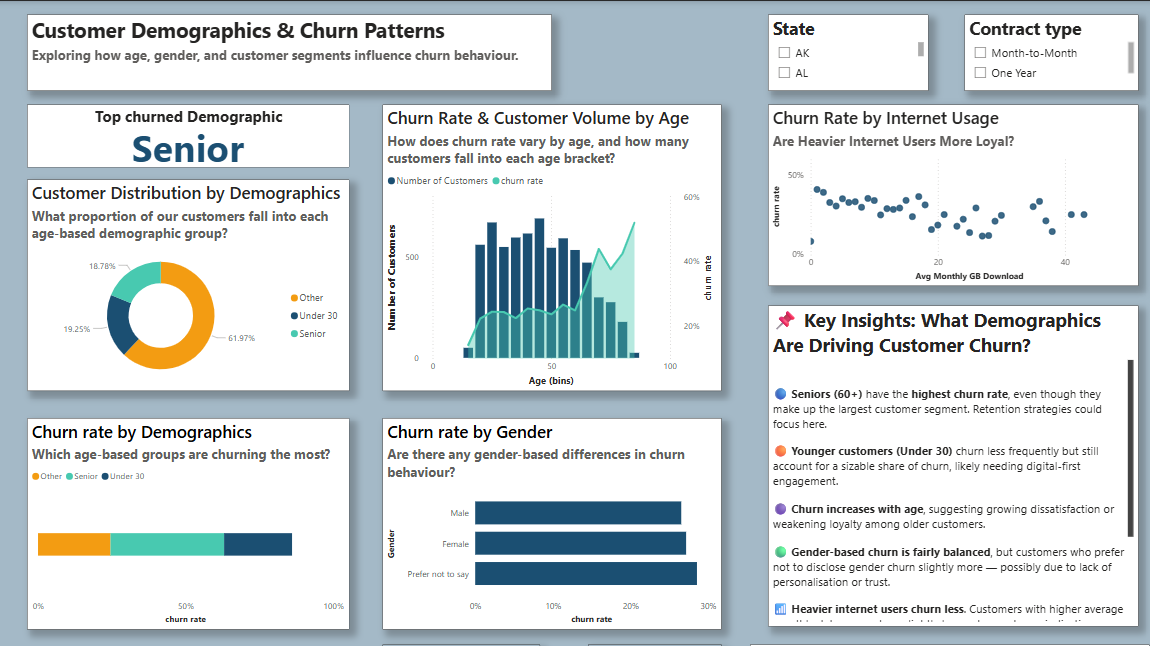

The dashboard page shown, as its layout file describes it:
{"tool":"powerbi","page":{"name":"Customer Demographics & Churn Patterns","canvas":[1640,960],"ordinal":3},"visuals":[{"type":"donutChart","title":"Customer Distribution by Demographics","fields":{"Category":["Databel - Data.Demographics"],"Y":["Databel - Data.Number of Customers"]},"box":[42.6,253.7,458.3,300.6],"z":0},{"type":"barChart","title":"Churn rate by Gender","fields":{"Y":["Databel - Data.churn rate"],"Category":["Databel - Data.Gender"]},"box":[547.9,592.6,481.8,300.6],"z":1000},{"type":"lineStackedColumnComboChart","title":"Churn Rate & Customer Volume by Age","fields":{"Category":["Databel - Data.Age (bins)"],"Y":["Databel - Data.Number of Customers"],"Y2":["Databel - Data.churn rate"]},"box":[547.9,147.1,481.8,407.2],"z":2000},{"type":"barChart","title":"Churn rate by Demographics","fields":{"Series":["Databel - Data.Demographics"],"Y":["Databel - Data.churn rate"]},"box":[42.6,592.6,458.3,300.6],"z":3000},{"type":"slicer","title":"State","fields":{"Values":["Databel - Data.State"]},"box":[1095.7,19.2,228.1,108.7],"z":4000},{"type":"slicer","title":"Contract type","fields":{"Values":["Databel - Data.Contract Type"]},"box":[1375,19.2,247.3,108.7],"z":5000},{"type":"textbox","title":"Customer Demographics & Churn Patterns","box":[42.6,19.2,746.1,108.7],"z":6000},{"type":"textbox","title":"📌 Key Insights: What Demographics Are Driving Customer Churn?","box":[1095.7,432.7,526.5,456.2],"z":7000},{"type":"textbox","title":"Power BI Dashboard | Analysing Customer Churn ","box":[1069.9,914.5,569.5,45.5],"z":8000},{"type":"scatterChart","title":"Churn Rate by Internet Usage","fields":{"X":["Databel - Data.Avg Monthly GB Download"],"Y":["Databel - Data.churn rate"]},"box":[1095.7,147.1,526.5,257.9],"z":9000},{"type":"card","title":"Top churned Demographic","fields":{"Values":["Databel - Data.Top Churned Demographic"]},"box":[42.6,147.1,458.3,89.5],"z":10000},{"type":"shape","title":"Next Page","box":[839.9,914.5,189.7,44.8],"z":10001},{"type":"shape","title":"Previous Page","box":[547.9,914.5,223.8,44.8],"z":10002}]}

Visuals, with their boxes on the page's 1640x960 design canvas (x1, y1, x2, y2). These are canvas units, not pixel positions in the 1150x646 screenshot, which may show the page scaled, cropped or inside an application window:
"Customer Distribution by Demographics" donutChart: {"left": 43, "top": 254, "right": 501, "bottom": 554}
"Churn rate by Gender" barChart: {"left": 548, "top": 593, "right": 1030, "bottom": 893}
"Churn Rate & Customer Volume by Age" lineStackedColumnComboChart: {"left": 548, "top": 147, "right": 1030, "bottom": 554}
"Churn rate by Demographics" barChart: {"left": 43, "top": 593, "right": 501, "bottom": 893}
"State" slicer: {"left": 1096, "top": 19, "right": 1324, "bottom": 128}
"Contract type" slicer: {"left": 1375, "top": 19, "right": 1622, "bottom": 128}
"Customer Demographics & Churn Patterns" textbox: {"left": 43, "top": 19, "right": 789, "bottom": 128}
"📌 Key Insights: What Demographics Are Driving Customer Churn?" textbox: {"left": 1096, "top": 433, "right": 1622, "bottom": 889}
"Power BI Dashboard | Analysing Customer Churn " textbox: {"left": 1070, "top": 914, "right": 1639, "bottom": 960}
"Churn Rate by Internet Usage" scatterChart: {"left": 1096, "top": 147, "right": 1622, "bottom": 405}
"Top churned Demographic" card: {"left": 43, "top": 147, "right": 501, "bottom": 237}
"Next Page" shape: {"left": 840, "top": 914, "right": 1030, "bottom": 959}
"Previous Page" shape: {"left": 548, "top": 914, "right": 772, "bottom": 959}
